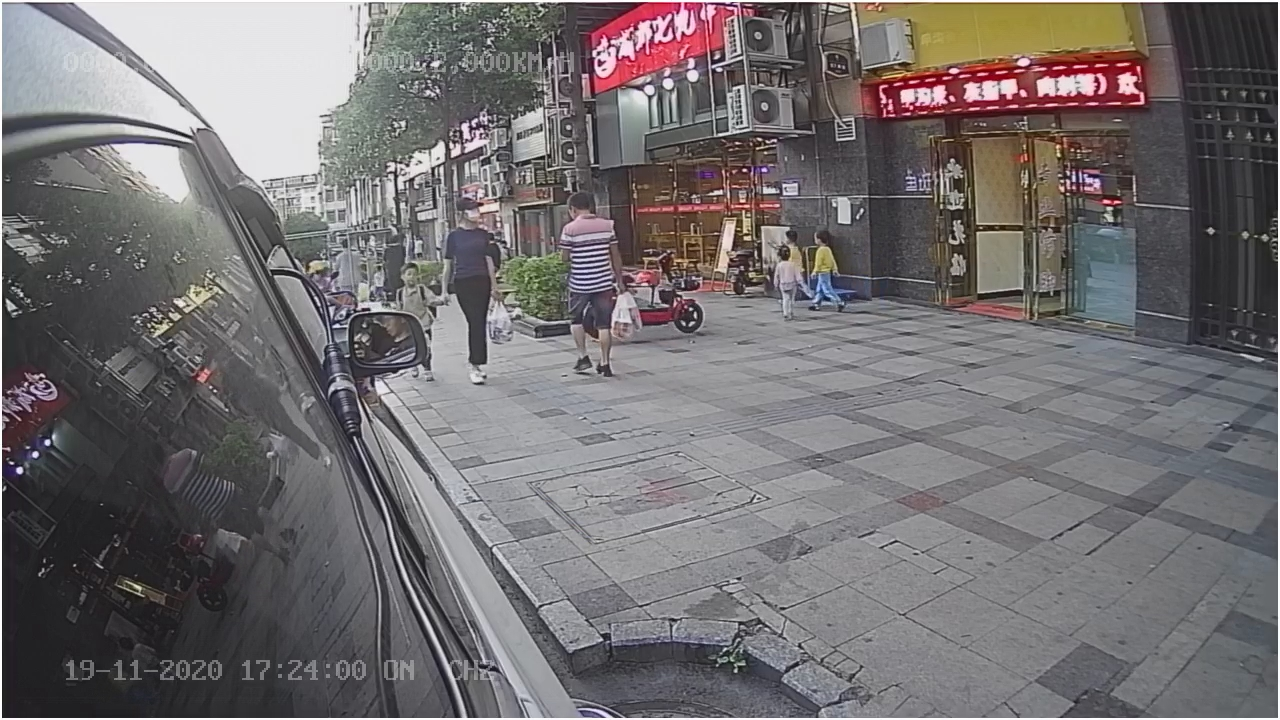person: (549, 188, 638, 386), (436, 188, 510, 388)
